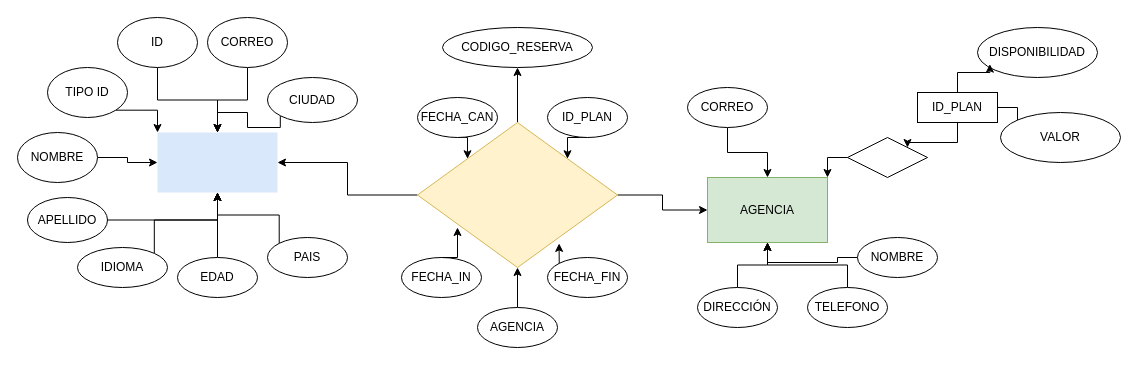
The diagram is 1138 pixels wide and 365 high, and some of its shapes have lost their labels. Each missing label, with the centre of its shape:
RESERVA: (517,195)
TIENE: (887,157)
USUARIO: (217,162)
